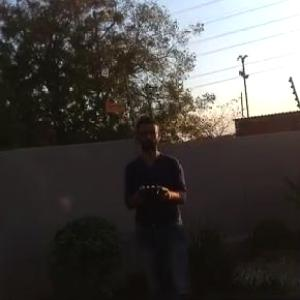follow: (121, 110, 196, 299)
